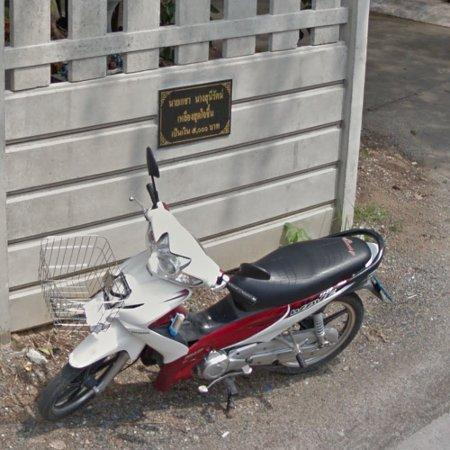motorcycles: (40, 149, 388, 421)
